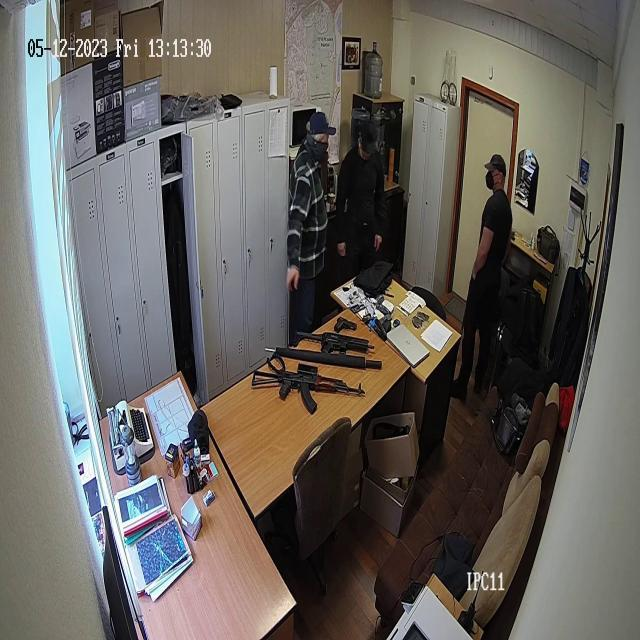pistol: (250, 368, 366, 416), (292, 328, 376, 356), (333, 316, 357, 334)
